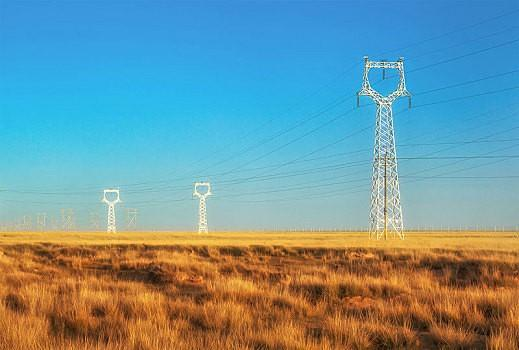power_tower: (354, 51, 416, 244), (185, 180, 219, 236), (100, 188, 124, 233)
